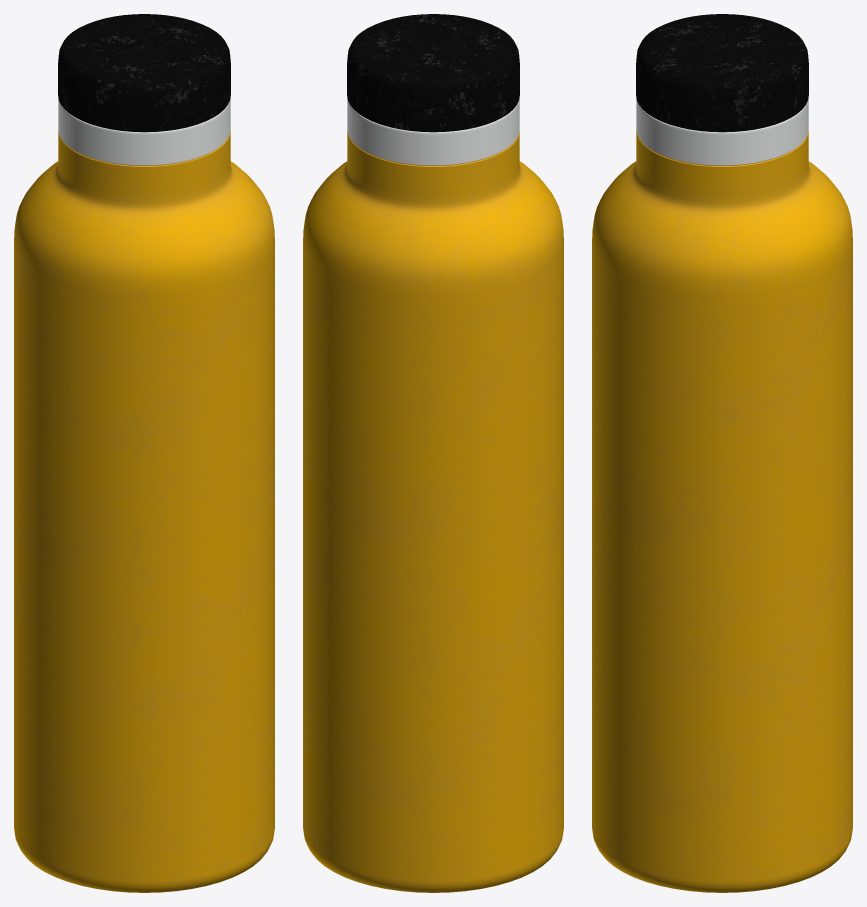
The picture shows the model from 3 angles, left to right: view 1: azimuth 30°, elevation 25°; view 2: azimuth 150°, elevation 25°; view 3: azimuth 270°, elevation 25°; orthographic projection.
Visible parts, largest first — view 1: Bottle, Lid; view 2: Bottle, Lid; view 3: Bottle, Lid.
Boxes of the visible parts, box(x1,y1,x2,y2) form: Bottle: box(14, 98, 274, 892); Lid: box(58, 14, 230, 132); Bottle: box(303, 98, 563, 892); Lid: box(347, 14, 519, 132); Bottle: box(592, 98, 852, 892); Lid: box(636, 14, 808, 132).
Bounding box in the file's own units: 5.59 × 18.77 × 5.59.
Materials: 3 (3 with a texture image).
